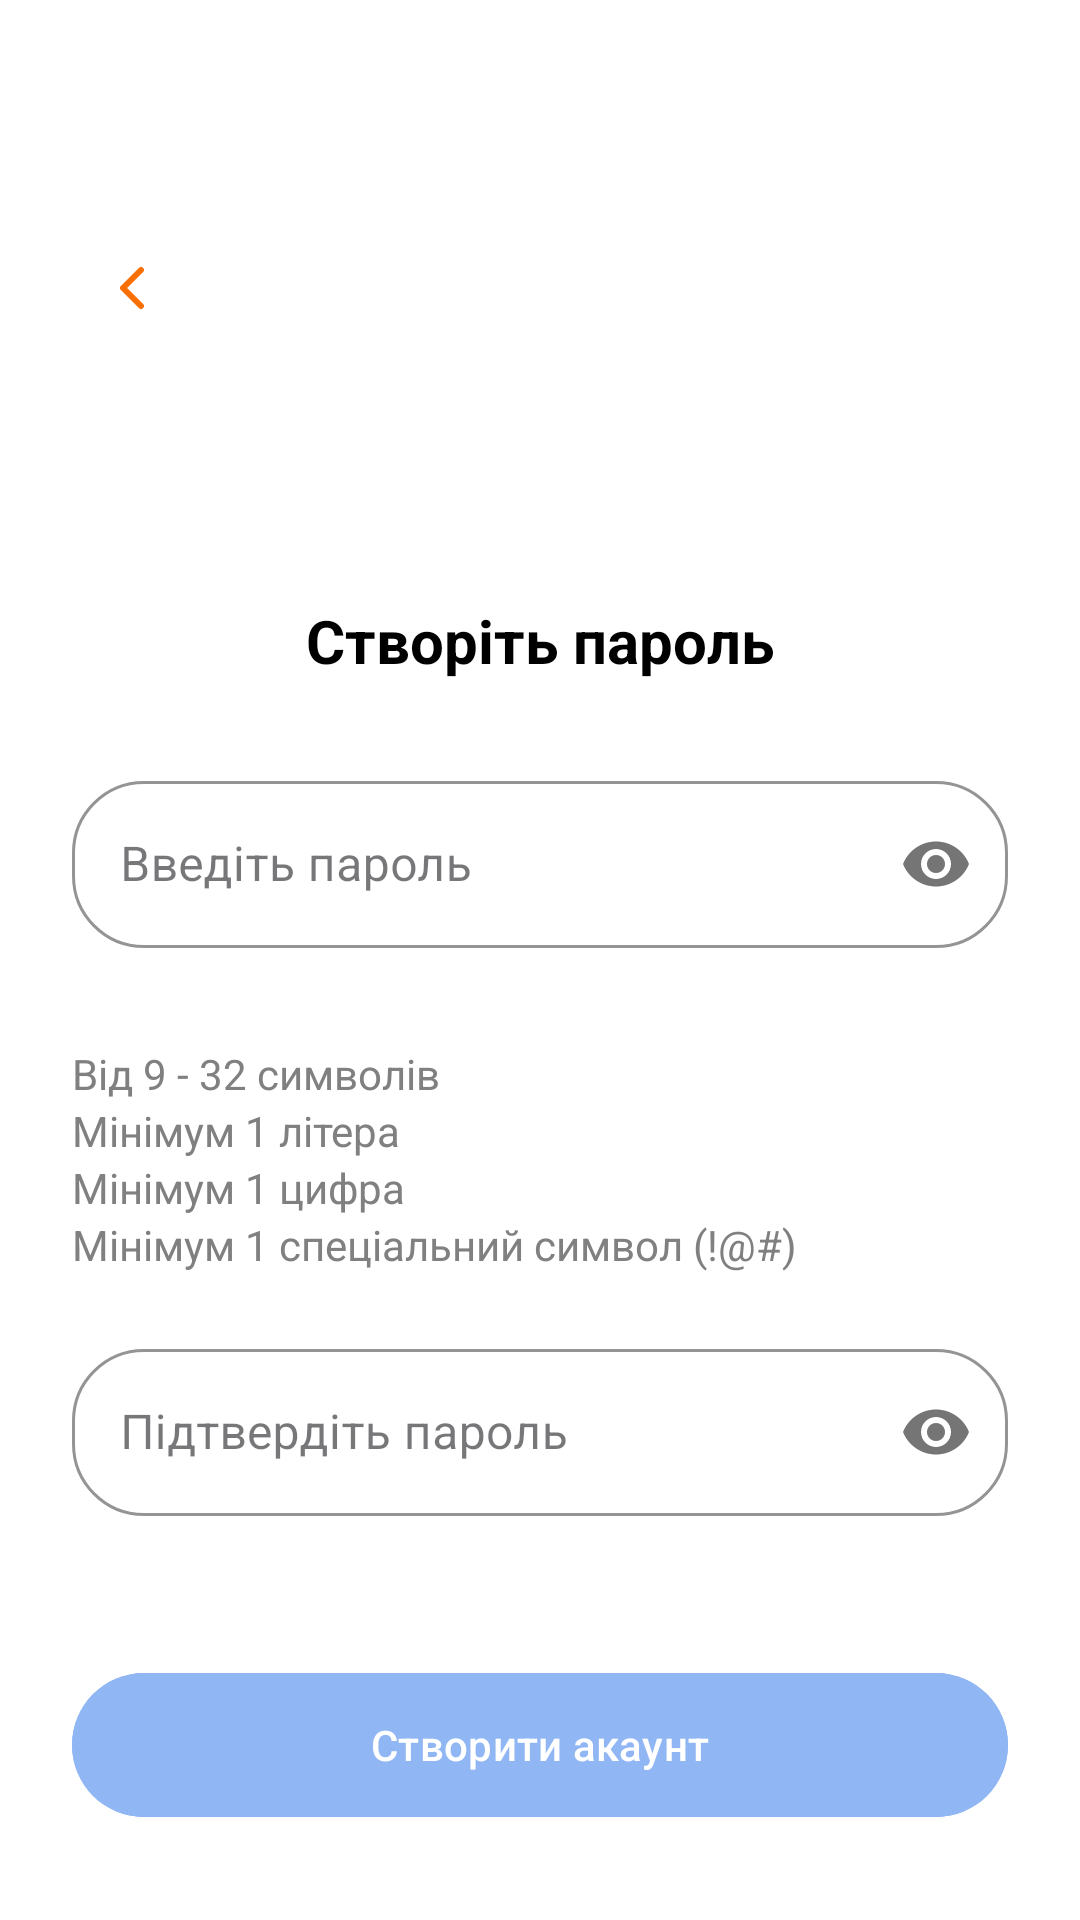

Point at icon controls on the screen. Image size 1080w x 1920h, points as (x=x, y=y).
back: (x=132, y=288)
